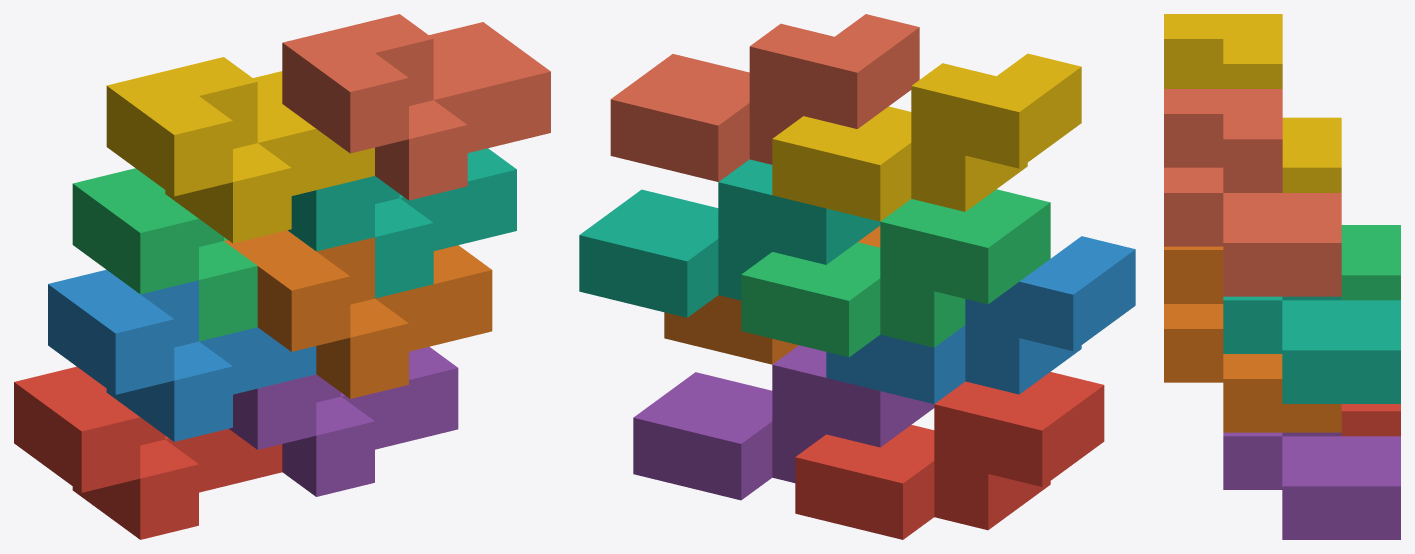
The model's file is tiling.obj.
The picture shows the model from 3 angles, left to right: view 1: azimuth 30°, elevation 25°; view 2: azimuth 150°, elevation 25°; view 3: azimuth 270°, elevation 25°; orthographic projection. The views are drawn at different scales.
Visible parts, largest first — view 1: copy_1_domain_8, copy_1_domain_4, copy_1_domain_6, copy_1_domain_2, copy_1_domain_1, copy_1_domain_5, copy_1_domain_3, copy_1_domain_7; view 2: copy_1_domain_4, copy_1_domain_1, copy_1_domain_3, copy_1_domain_8, copy_1_domain_7, copy_1_domain_5, copy_1_domain_2, copy_1_domain_6; view 3: copy_1_domain_8, copy_1_domain_5, copy_1_domain_7, copy_1_domain_6, copy_1_domain_4, copy_1_domain_3, copy_1_domain_1.
Boxes of the visible parts, x1,y1,x2,y2 form: copy_1_domain_8: (282,14,550,200); copy_1_domain_4: (106,57,374,243); copy_1_domain_6: (224,230,492,398); copy_1_domain_2: (48,269,316,441); copy_1_domain_1: (14,366,282,539); copy_1_domain_5: (229,346,458,496); copy_1_domain_3: (72,168,257,341); copy_1_domain_7: (288,148,516,298); copy_1_domain_4: (772,53,1081,221); copy_1_domain_1: (795,372,1104,539); copy_1_domain_3: (741,189,1050,357); copy_1_domain_8: (610,14,919,181); copy_1_domain_7: (579,159,880,317); copy_1_domain_5: (633,345,934,500); copy_1_domain_2: (826,236,1135,403); copy_1_domain_6: (664,226,880,364); copy_1_domain_8: (1164,89,1341,296); copy_1_domain_5: (1223,432,1400,539); copy_1_domain_7: (1223,296,1400,403); copy_1_domain_6: (1164,246,1341,432); copy_1_domain_4: (1164,14,1341,192); copy_1_domain_3: (1341,225,1400,300); copy_1_domain_1: (1341,404,1400,436).
Bounding box in the file's own units: 8 × 7 × 4.
